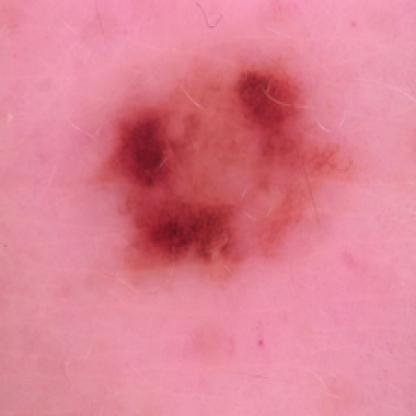benign: (104, 65, 338, 266)
